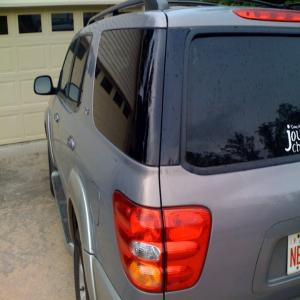Vehicle-registration-plate: (288, 232, 300, 274)
